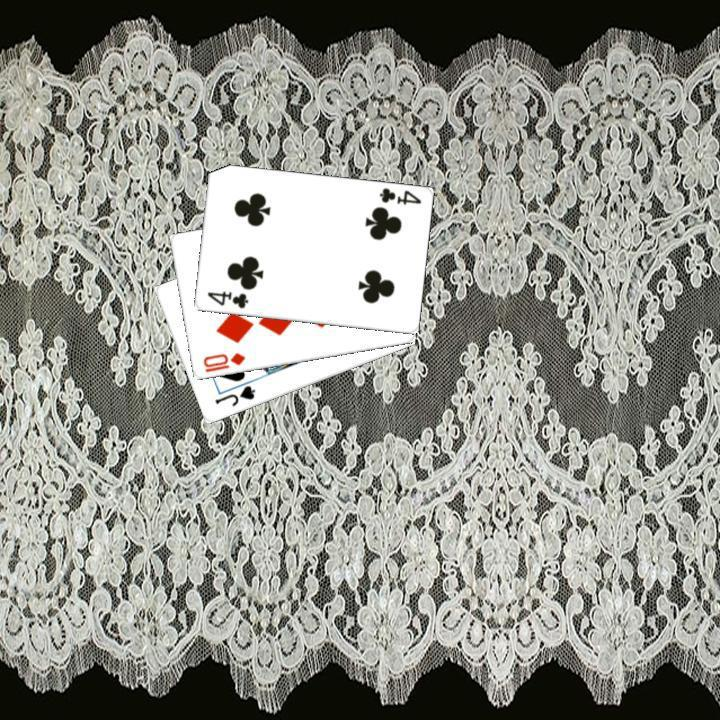10: (198, 349, 247, 375)
4: (374, 183, 423, 207), (202, 287, 250, 310)
J: (210, 381, 257, 409)
